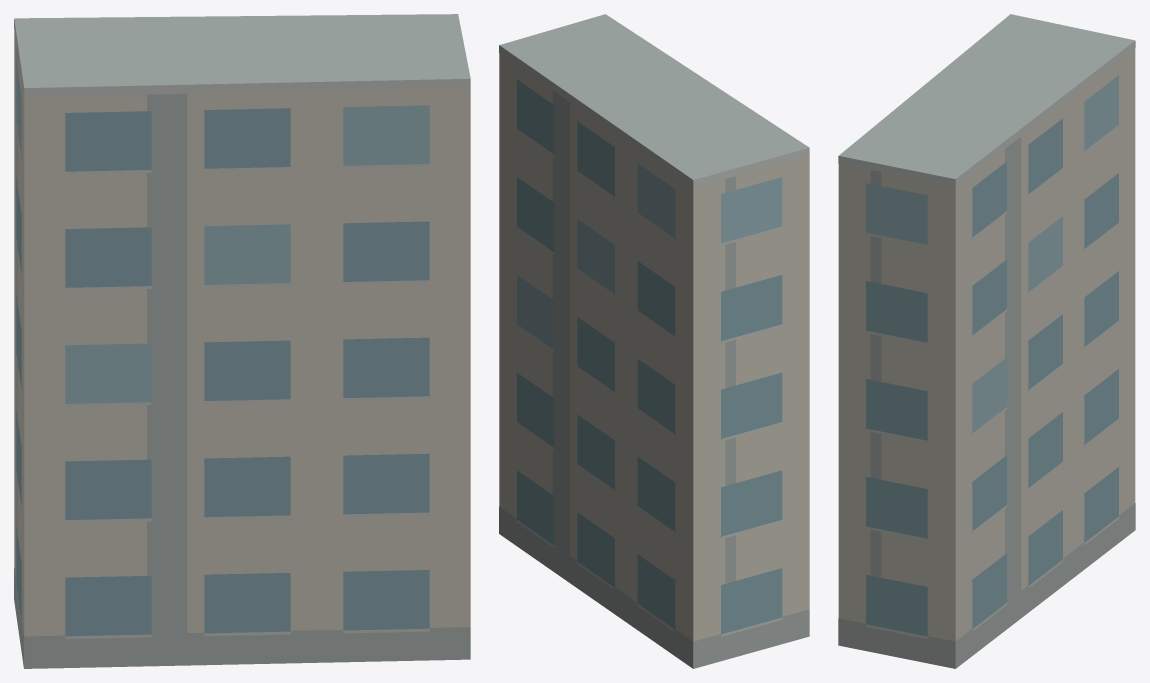
File: survey-upis-32730882.glb
3 renders of one model, left to right at view 1: azimuth 30°, elevation 25°; view 2: azimuth 150°, elevation 25°; view 3: azimuth 270°, elevation 25°, orthographic. The views are drawn at different scales.
Visible parts, largest first — view 1: survey-upis-32730882.tmp; view 2: survey-upis-32730882.tmp; view 3: survey-upis-32730882.tmp.
Part boxes in pixels (left/top/right/bottom): survey-upis-32730882.tmp: left=14, top=14, right=470, bottom=668; survey-upis-32730882.tmp: left=499, top=14, right=809, bottom=668; survey-upis-32730882.tmp: left=838, top=14, right=1135, bottom=668.
Bounding box in the file's own units: 11.04 × 15.25 × 8.39.
